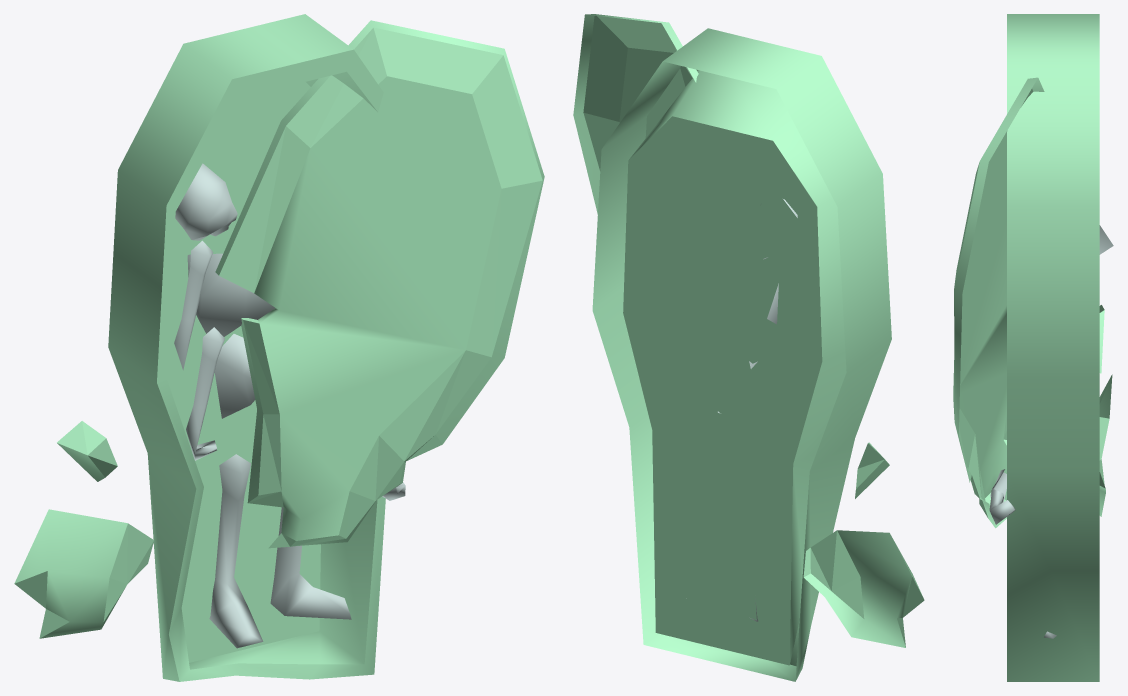
3 views of the same model, side by side, from view 1: azimuth 30°, elevation 25°; view 2: azimuth 150°, elevation 25°; view 3: azimuth 270°, elevation 25° (orthographic). The views are drawn at different scales.
Visible parts, largest first — view 1: Object56; view 2: Object56; view 3: Object56.
Boxes of the visible parts, x1=… form: Object56: x1=14, y1=14, x2=544, y2=681; Object56: x1=573, y1=14, x2=924, y2=681; Object56: x1=953, y1=14, x2=1113, y2=681.
Bounding box in the file's own units: 16207 × 21835 × 5206.
